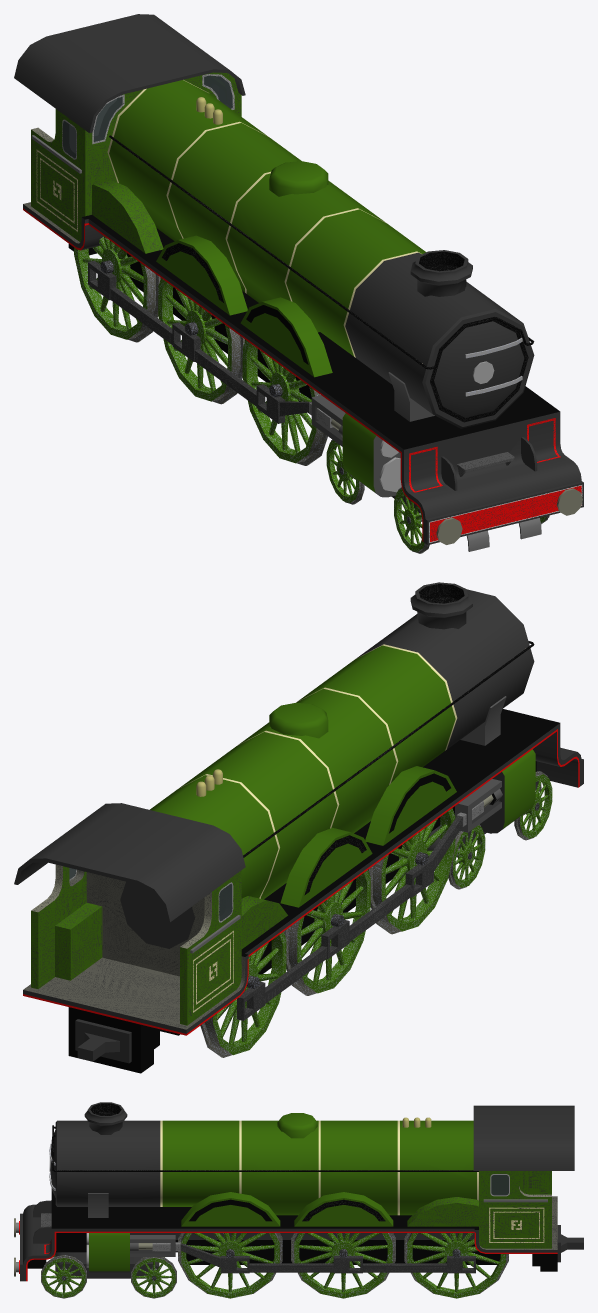
Rendered from gresley.dae.
The picture shows the model from 3 angles, top to bottom: view 1: azimuth 30°, elevation 25°; view 2: azimuth 150°, elevation 25°; view 3: azimuth 270°, elevation 25°; orthographic projection. The views are drawn at different scales.
Parts seen in each view (by area): view 1: group_0 (×27), Group_2 (×6), group_1 (×3); view 2: group_0 (×28), Group_2 (×6), group_1 (×3); view 3: group_0 (×34), Group_2 (×12), group_1 (×3), Group_3 (×2).
Part boxes in pixels (x1,y1,x2,y2): group_0 (×27): (14, 14, 583, 544); Group_2 (×6): (74, 247, 316, 463); group_1 (×3): (269, 161, 472, 296); group_0 (×28): (14, 589, 583, 1073); Group_2 (×6): (213, 808, 455, 1054); group_1 (×3): (269, 582, 472, 738); group_0 (×34): (20, 1105, 583, 1281); Group_2 (×12): (178, 1233, 508, 1298); group_1 (×3): (84, 1102, 317, 1138); Group_3 (×2): (42, 1258, 175, 1297).
Bounding box in the file's own units: 88.98 × 401 × 131.
